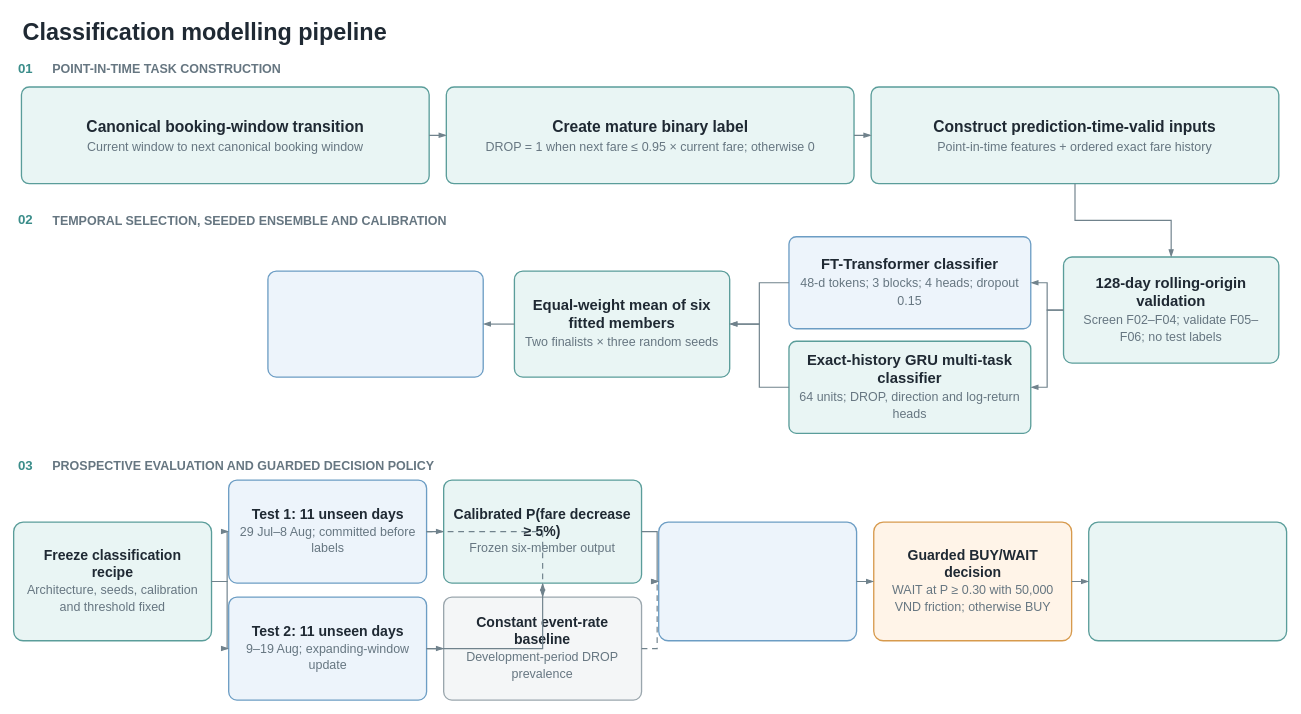
Image size: 1301x714. Some labels were removed from this diagram. The box of each missing label's shape, as (x1, y1, x2, y2) in pixels:
Assess probability quality ROC-AUC, PR-AUC, log loss and Brier score: (658, 521, 857, 641)
Final production refit Same recipe refitted through 19 Aug: (1088, 521, 1287, 641)
Temporal-head probability calibration Four calibrators tested; isotonic selected: (267, 270, 484, 377)
